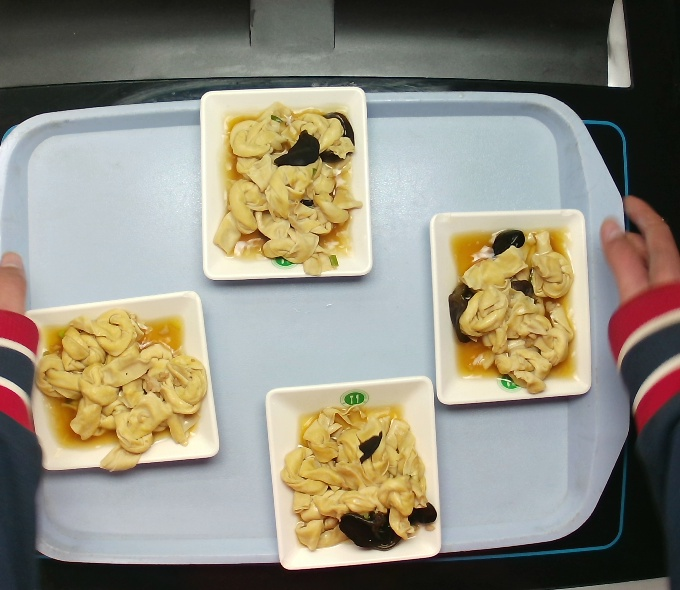wcq-QianZhangJie: (214, 98, 367, 279), (36, 306, 200, 466), (282, 393, 432, 556), (449, 224, 577, 399)
